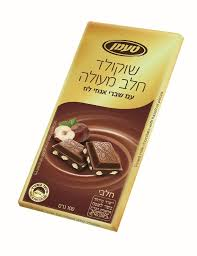Chocolate: (17, 20, 189, 251)
